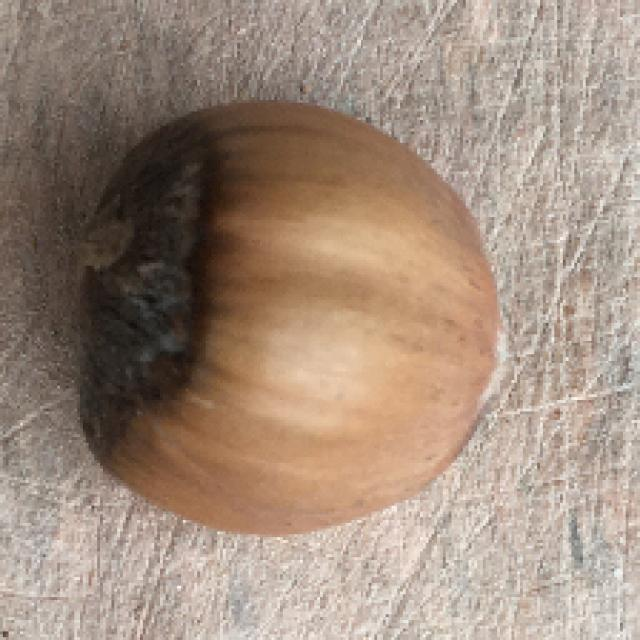damagedHazelnut: (77, 92, 512, 529)
